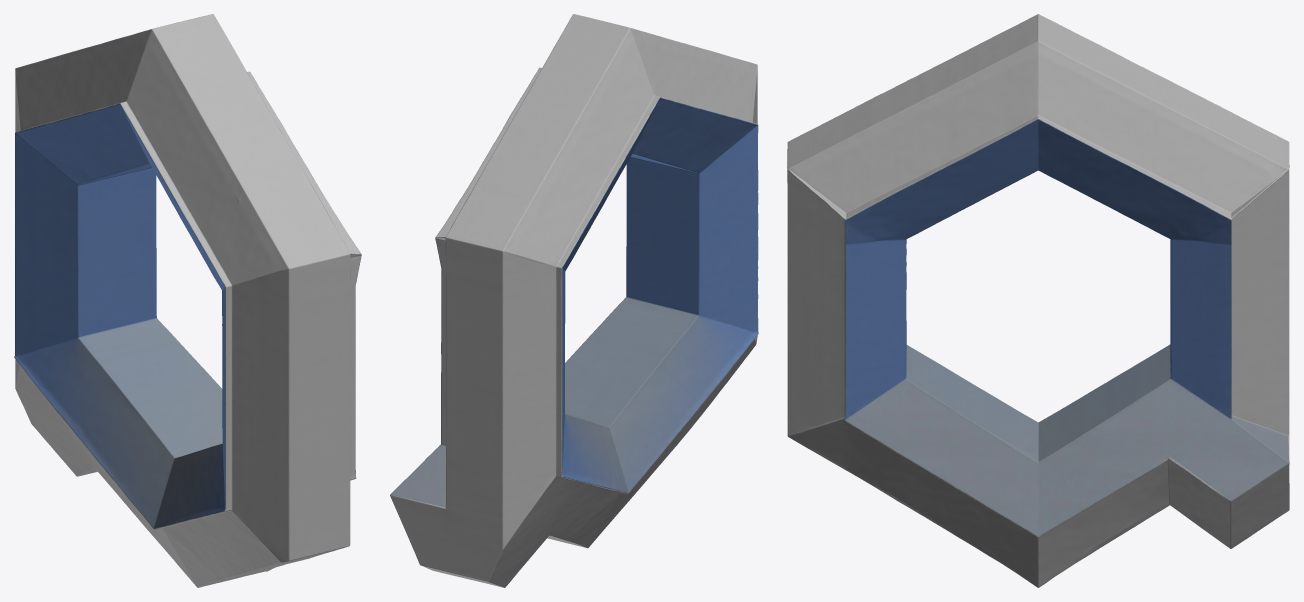
The picture shows the model from 3 angles, left to right: view 1: azimuth 30°, elevation 25°; view 2: azimuth 150°, elevation 25°; view 3: azimuth 270°, elevation 25°; orthographic projection. The views are drawn at different scales.
Visible parts, largest first — view 1: tripo_node_4a27135c-ad43-4f9e-baf1-c11f86ab6272; view 2: tripo_node_4a27135c-ad43-4f9e-baf1-c11f86ab6272; view 3: tripo_node_4a27135c-ad43-4f9e-baf1-c11f86ab6272.
Part boxes in pixels (x1,y1,x2,y2): tripo_node_4a27135c-ad43-4f9e-baf1-c11f86ab6272: [14, 14, 361, 587]; tripo_node_4a27135c-ad43-4f9e-baf1-c11f86ab6272: [390, 14, 758, 587]; tripo_node_4a27135c-ad43-4f9e-baf1-c11f86ab6272: [787, 14, 1289, 587].
Size of the model in its own units: 0.3257 by 1 by 0.8701.
1 material, 1 textured.
